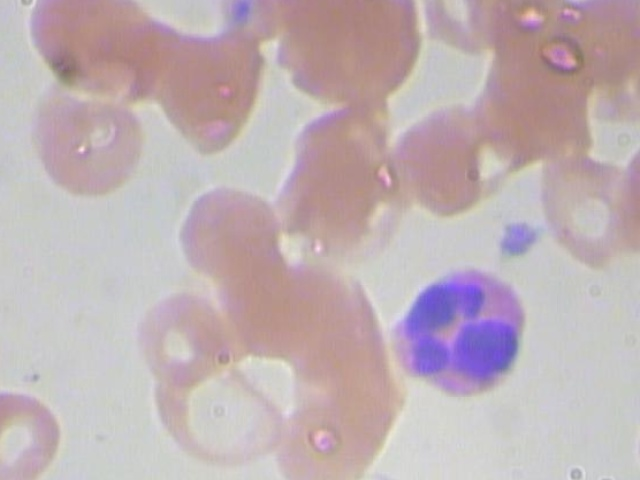Platelets: (492, 211, 553, 269)
RBC: (142, 343, 291, 479), (23, 70, 155, 206), (154, 27, 279, 169), (266, 363, 414, 480), (28, 0, 193, 103), (278, 0, 431, 111), (392, 97, 507, 224), (278, 251, 393, 378), (275, 123, 390, 250), (160, 175, 289, 284), (533, 141, 640, 268), (129, 285, 227, 393), (552, 0, 640, 103), (420, 0, 538, 68), (0, 380, 74, 480), (612, 120, 640, 289), (634, 257, 640, 387)
WBC: (376, 265, 535, 401)
